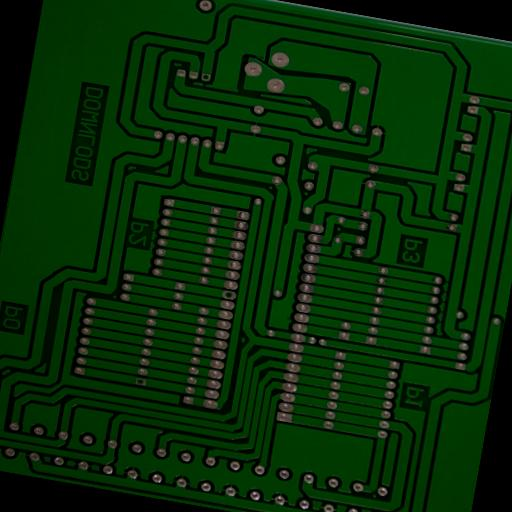missing_hole: (198, 70, 210, 82), (222, 289, 233, 299), (136, 378, 144, 384)
